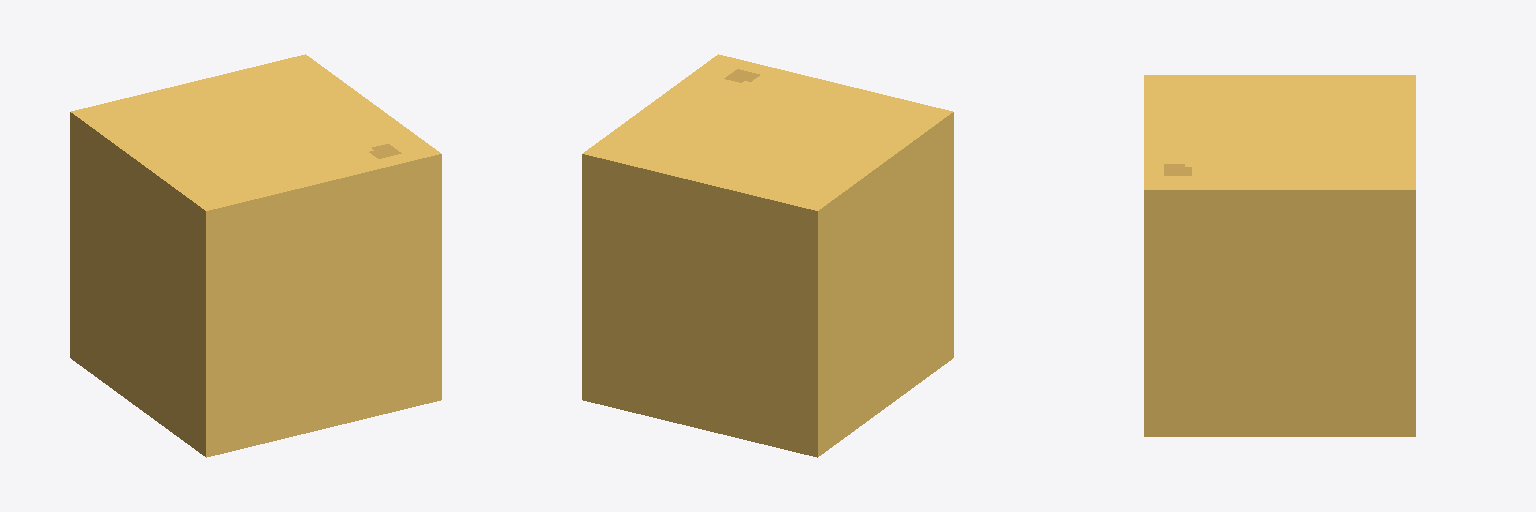
3 renders of one model, left to right at view 1: azimuth 30°, elevation 25°; view 2: azimuth 150°, elevation 25°; view 3: azimuth 270°, elevation 25°, orthographic.
Parts seen in each view (by area): view 1: object 1; view 2: object 1; view 3: object 1.
Boxes of the visible parts, x1,y1,x2,y2 form: object 1: [70, 54, 441, 457]; object 1: [582, 54, 953, 457]; object 1: [1144, 75, 1415, 436].
Size of the model in its own units: 4 by 4 by 4.
1 materials, 1 textured.